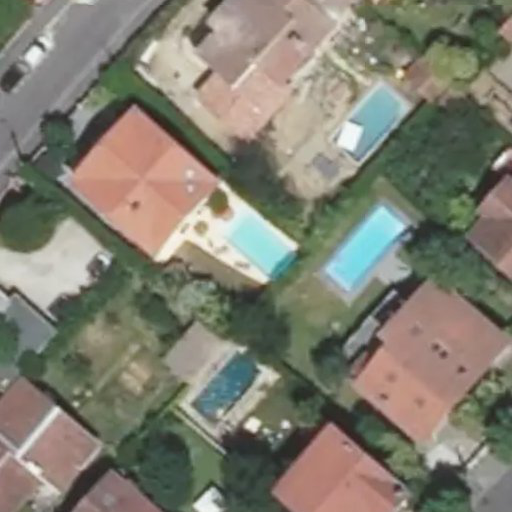pool: (214, 230, 297, 253)
